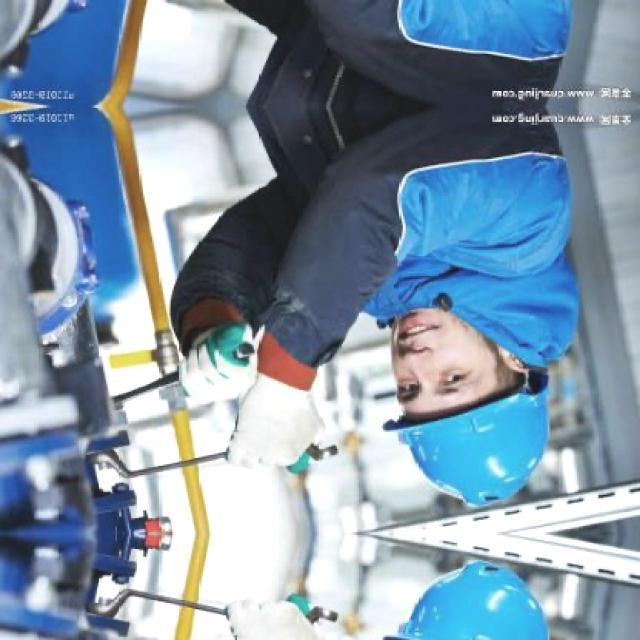safetyhelmet: (378, 378, 548, 497)
